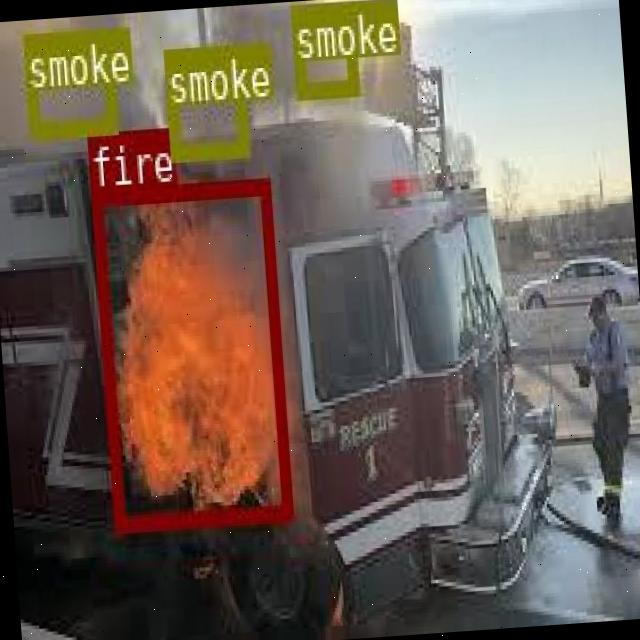fire: (90, 177, 292, 527)
smoke: (20, 27, 115, 136), (162, 42, 246, 159), (289, 0, 356, 95)
